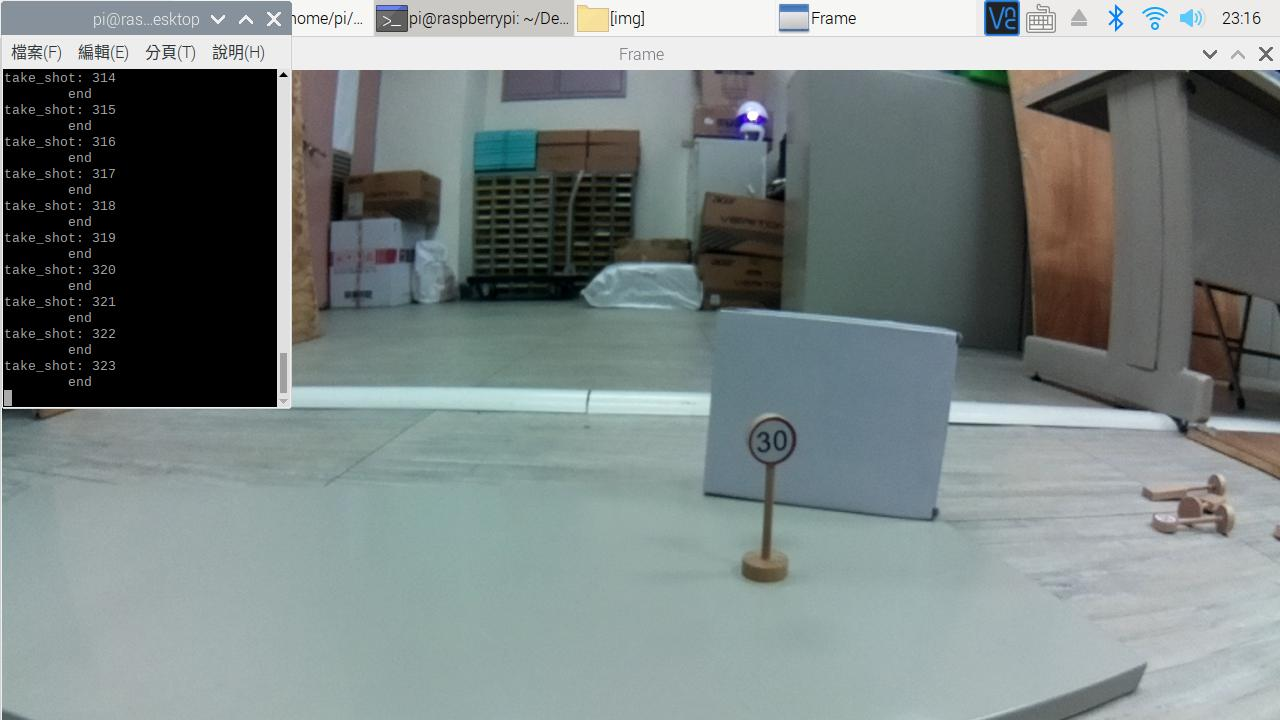Speed30: (737, 407, 809, 478)
